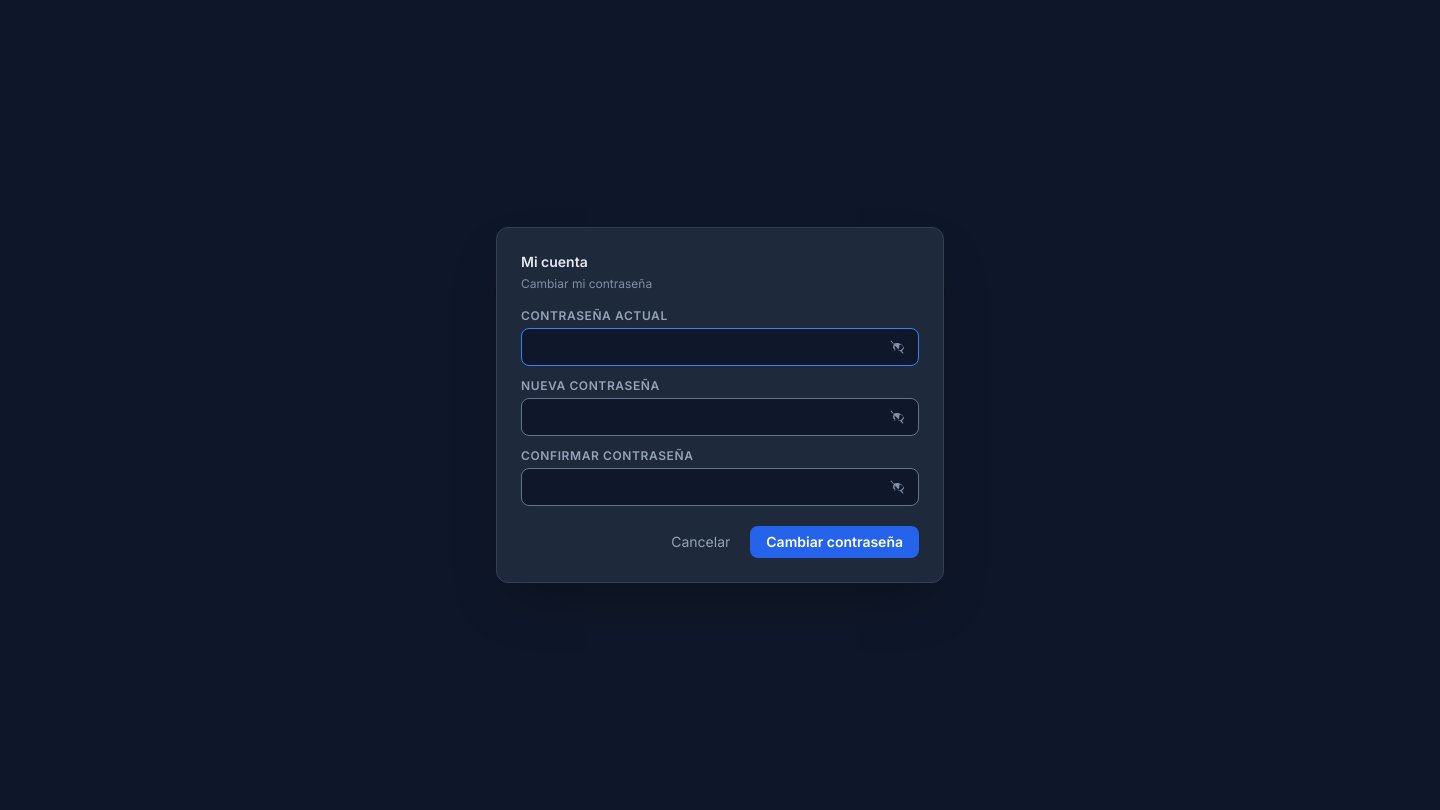
Scenario: MiCuentaModal › con éxito avisa que las otras sesiones se cerraron
Type "vieja-clave" into the password field labelled "Contraseña actual" at [720, 347], box [521,328,919,366]
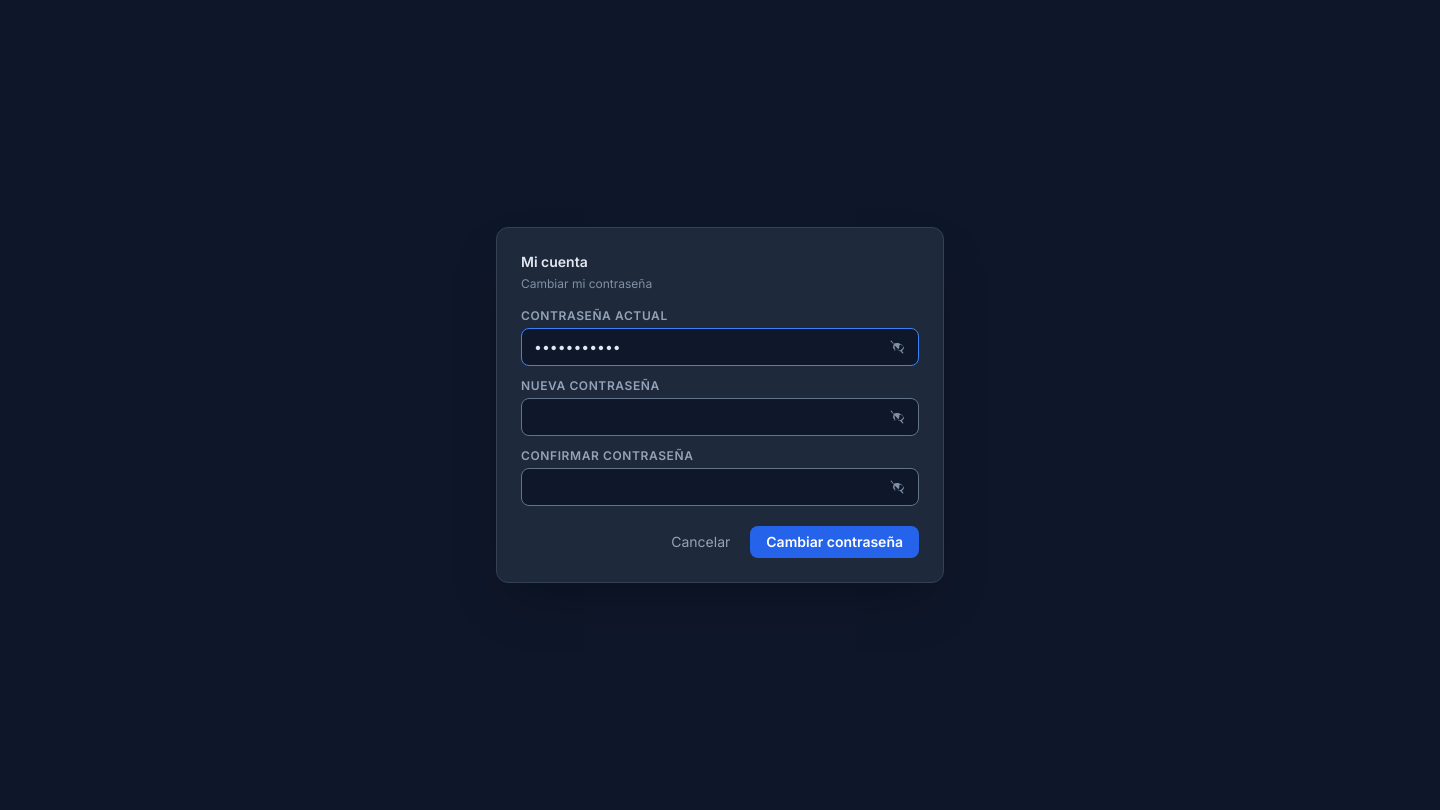
Type "nueva-clave-9" into the password field labelled "Nueva contraseña" at [720, 417], box [521,398,919,436]
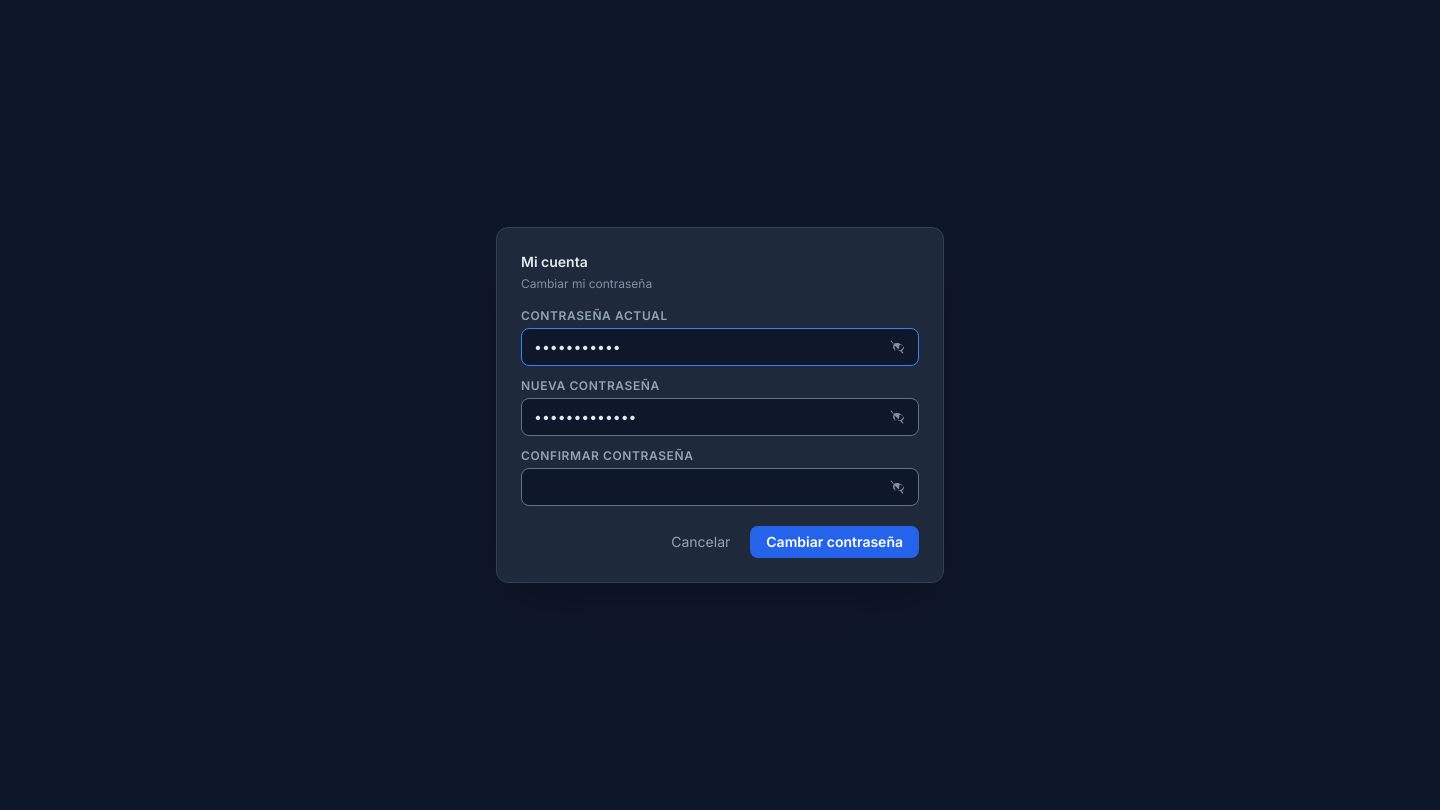
Type "nueva-clave-9" into the password field labelled "Confirmar contraseña" at [720, 487], box [521,468,919,506]
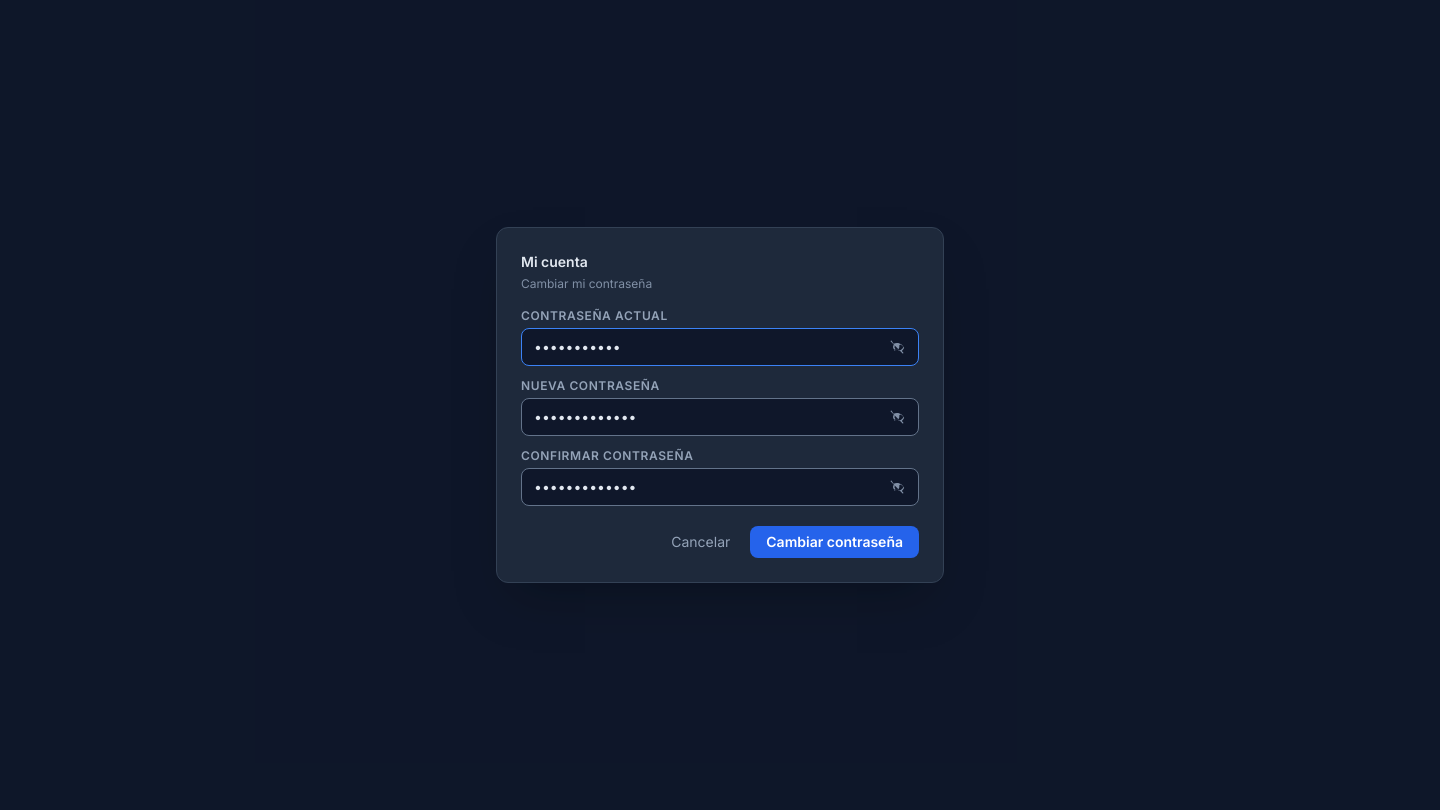
Click the button "Cambiar contraseña" at [835, 542], box [750,526,919,558]
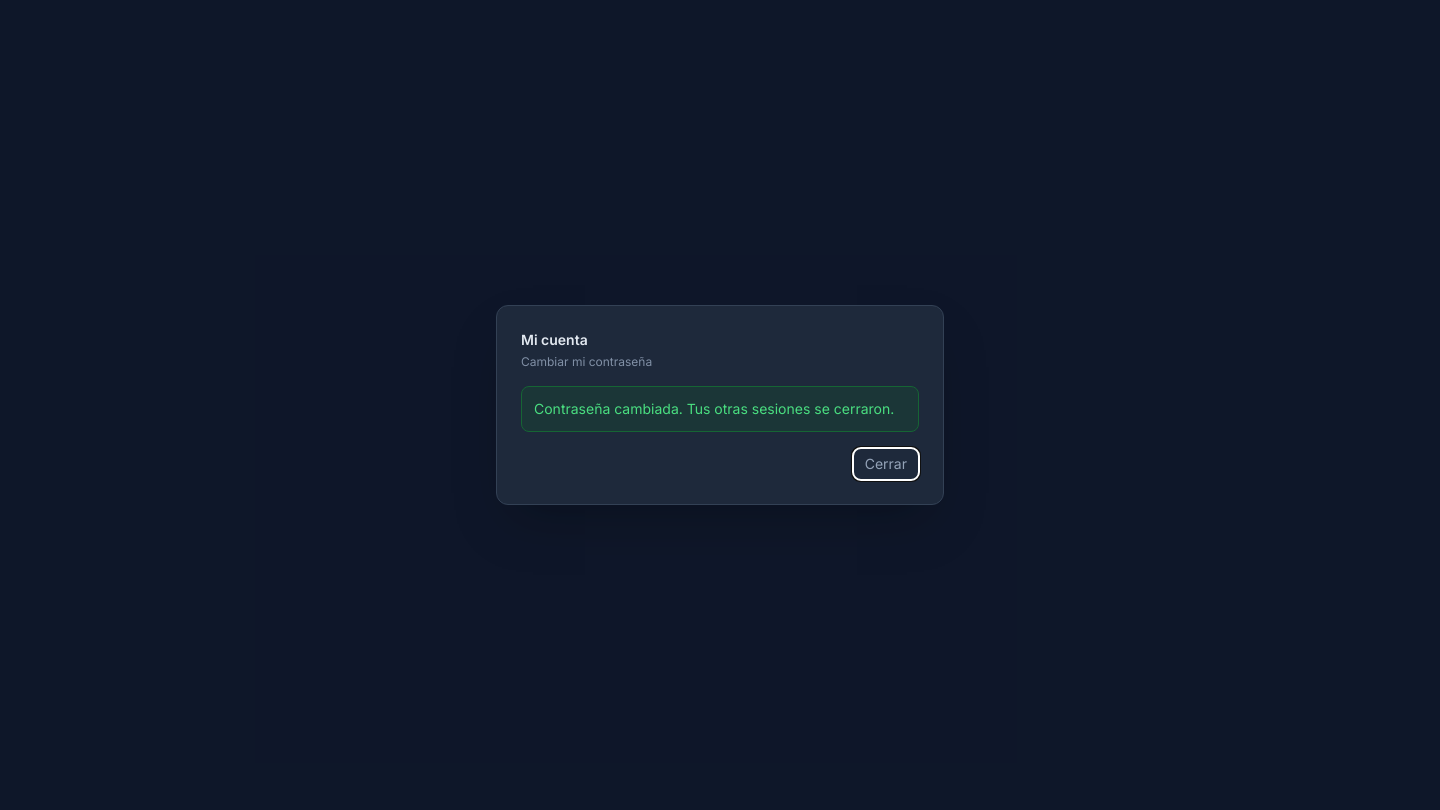
Now the text "Contraseña cambiada. Tus otras sesiones se cerraron." is shown, box [521,386,919,432]
